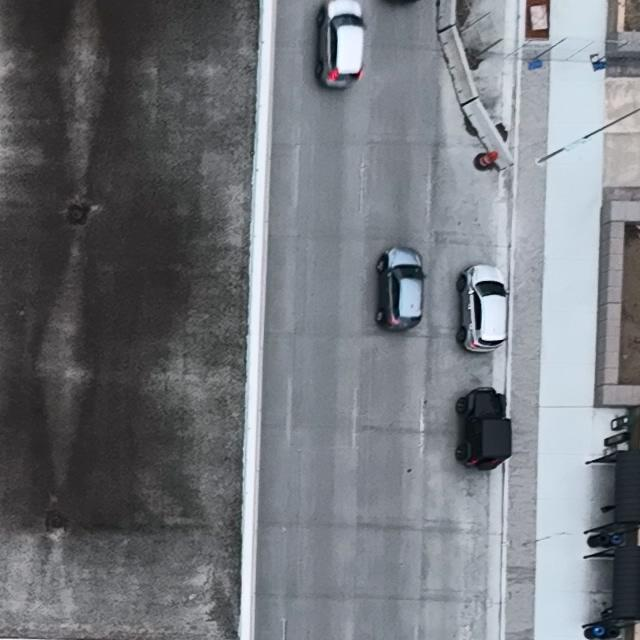car: (454, 265, 511, 354), (455, 385, 512, 470), (315, 0, 367, 87), (376, 245, 427, 331)
